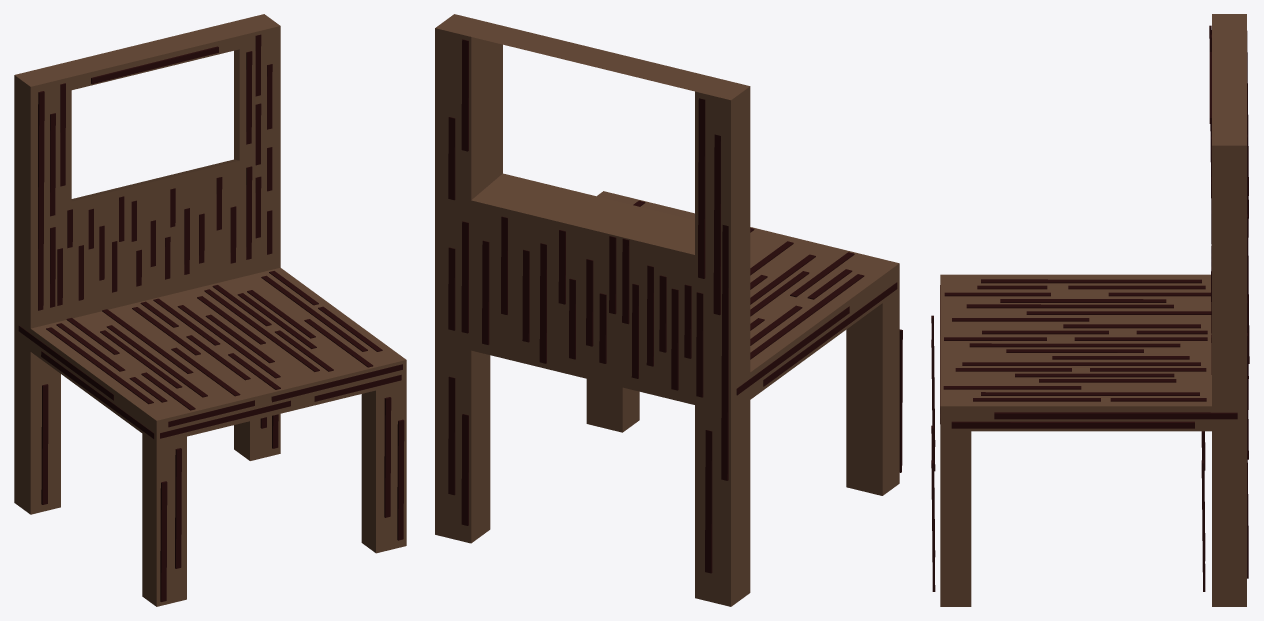
File: SILLA GAME JAM.fbx
3 renders of one model, left to right at view 1: azimuth 30°, elevation 25°; view 2: azimuth 150°, elevation 25°; view 3: azimuth 270°, elevation 25°, orthographic. The views are drawn at different scales.
Parts seen in each view (by area): view 1: pCube119; view 2: pCube119; view 3: pCube119.
Boxes of the visible parts, x1=… form: pCube119: x1=14, y1=14, x2=406, y2=606; pCube119: x1=435, y1=14, x2=902, y2=606; pCube119: x1=931, y1=14, x2=1249, y2=606.
Size of the model in its own units: 1.43 by 2.31 by 1.44.
